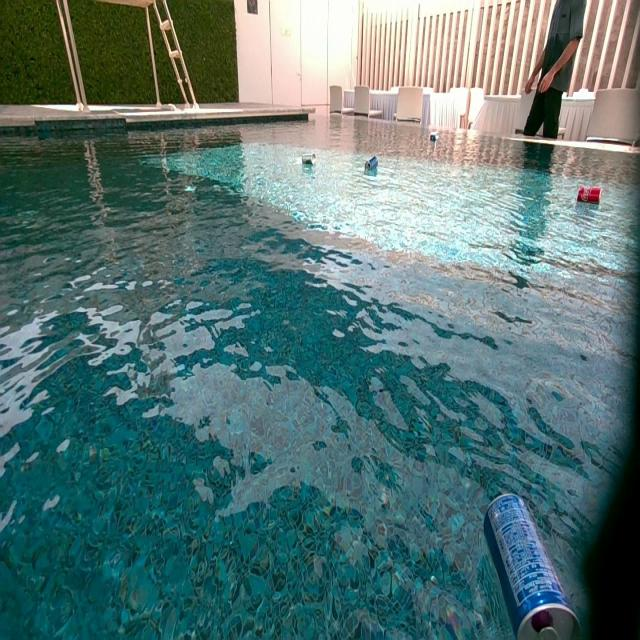Cans: (476, 489, 580, 640), (578, 187, 601, 204), (303, 154, 317, 169), (364, 157, 377, 172), (429, 132, 439, 144)
